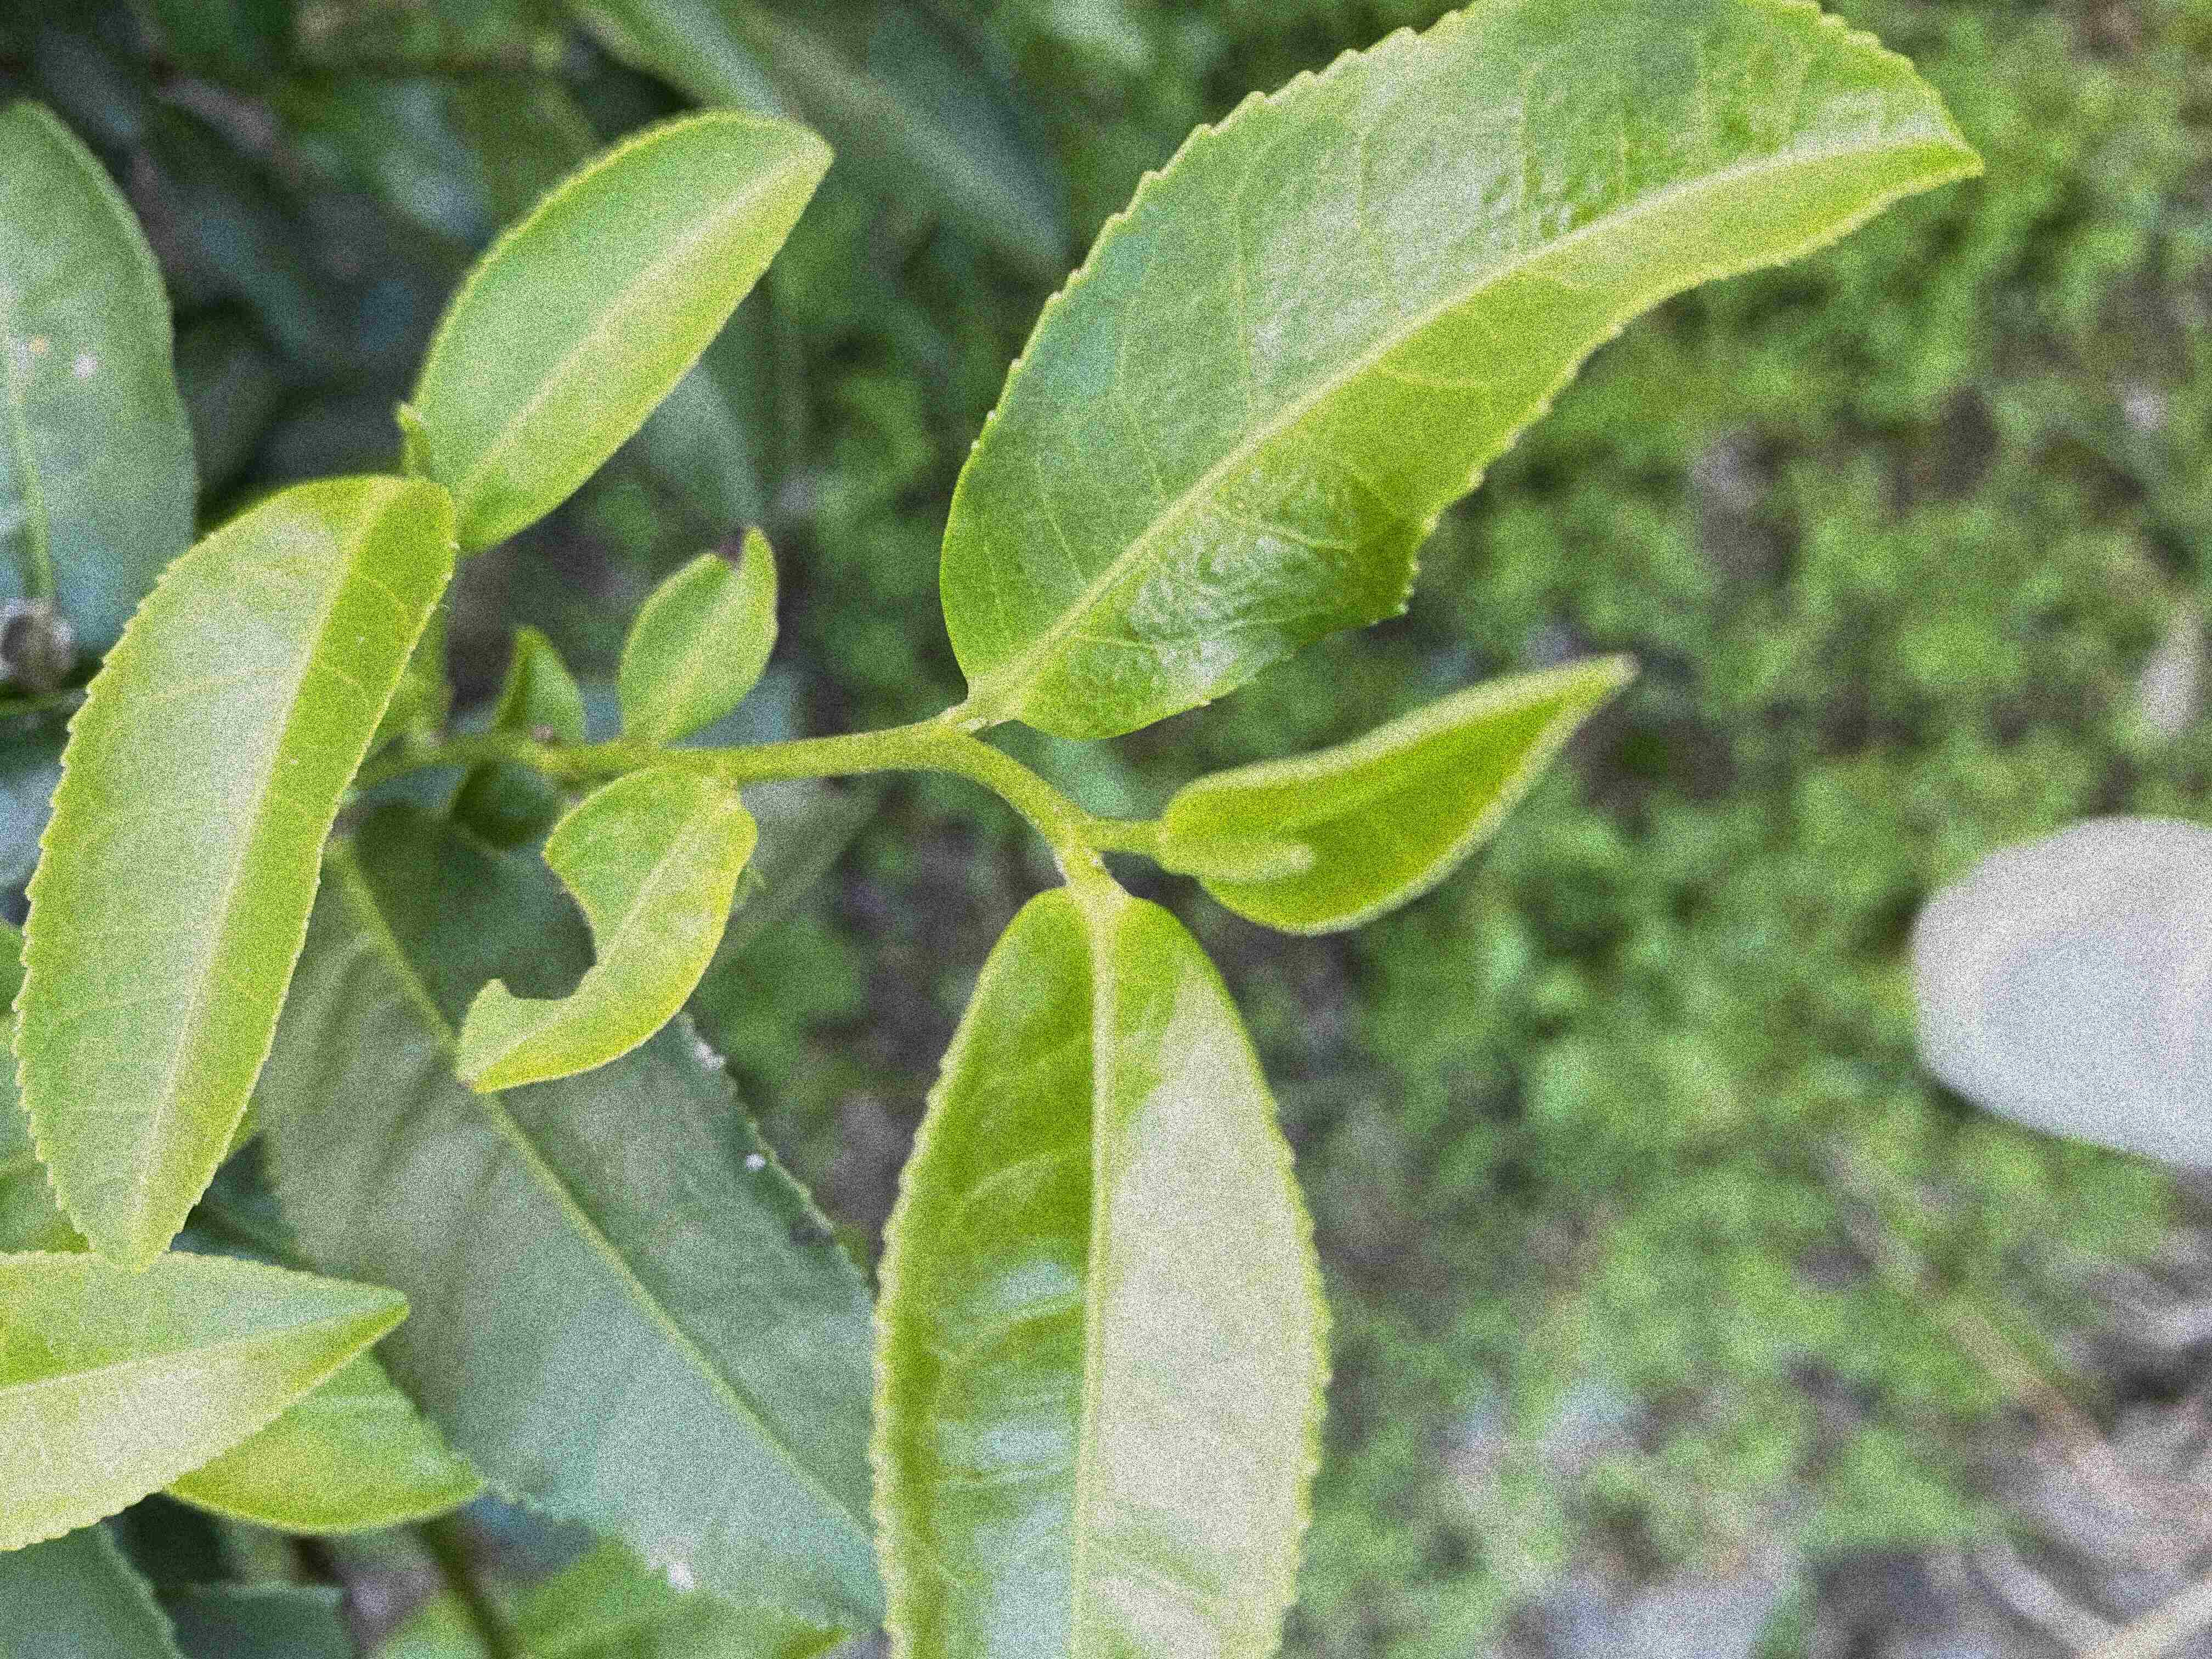chihuo_low: (453, 763, 759, 1096)
healthy: (939, 3, 1991, 741), (862, 880, 1336, 1652), (7, 467, 458, 1272), (401, 115, 833, 551), (1158, 657, 1637, 934), (5, 1246, 415, 1558)
tanju_low: (270, 824, 869, 1638)
